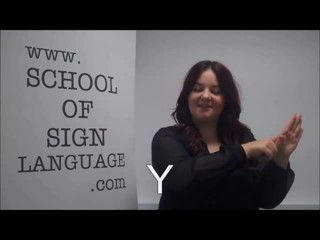Y: (237, 109, 309, 172)
